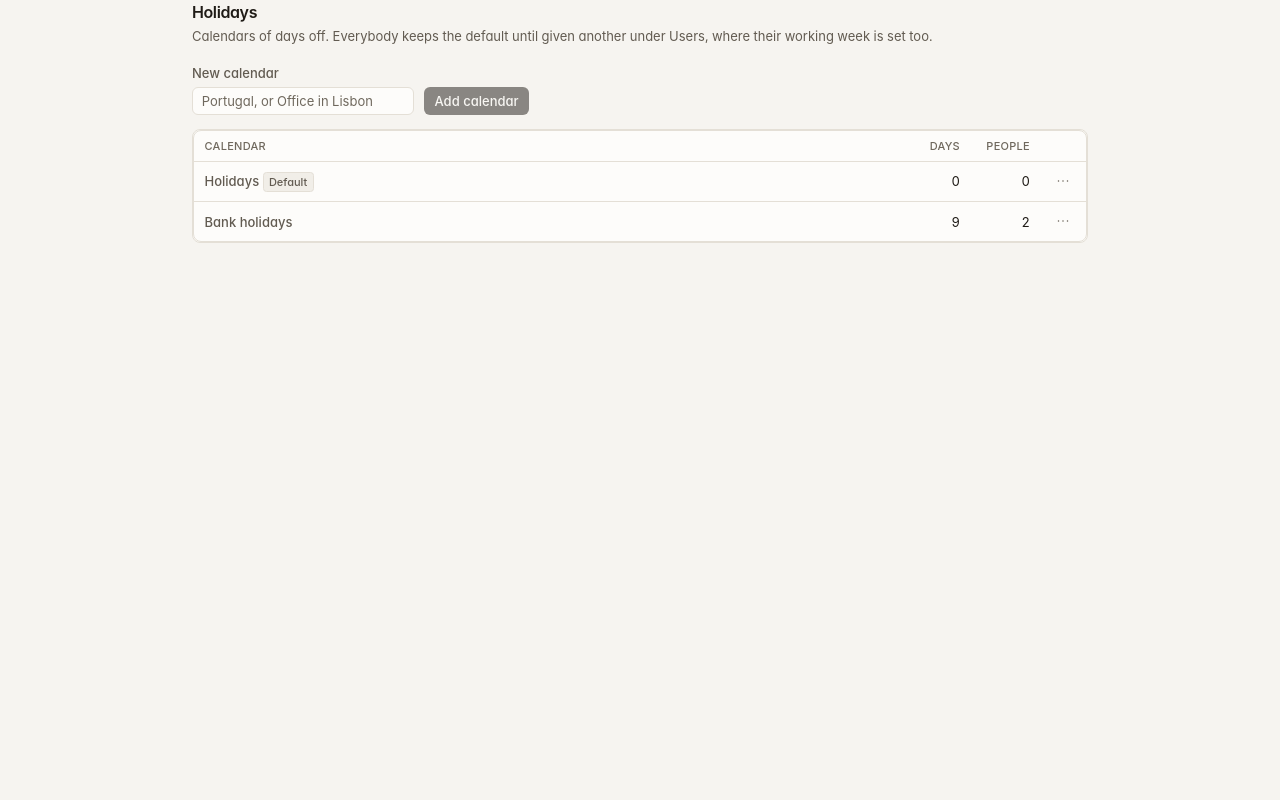
Test: deleting a holiday calendar › names the desks that take their days off from it
The width and height of the screenshot is (1280, 800).
Click the button named "Actions for Bank holidays".
click(1063, 221)  # box [1051, 209, 1076, 234]
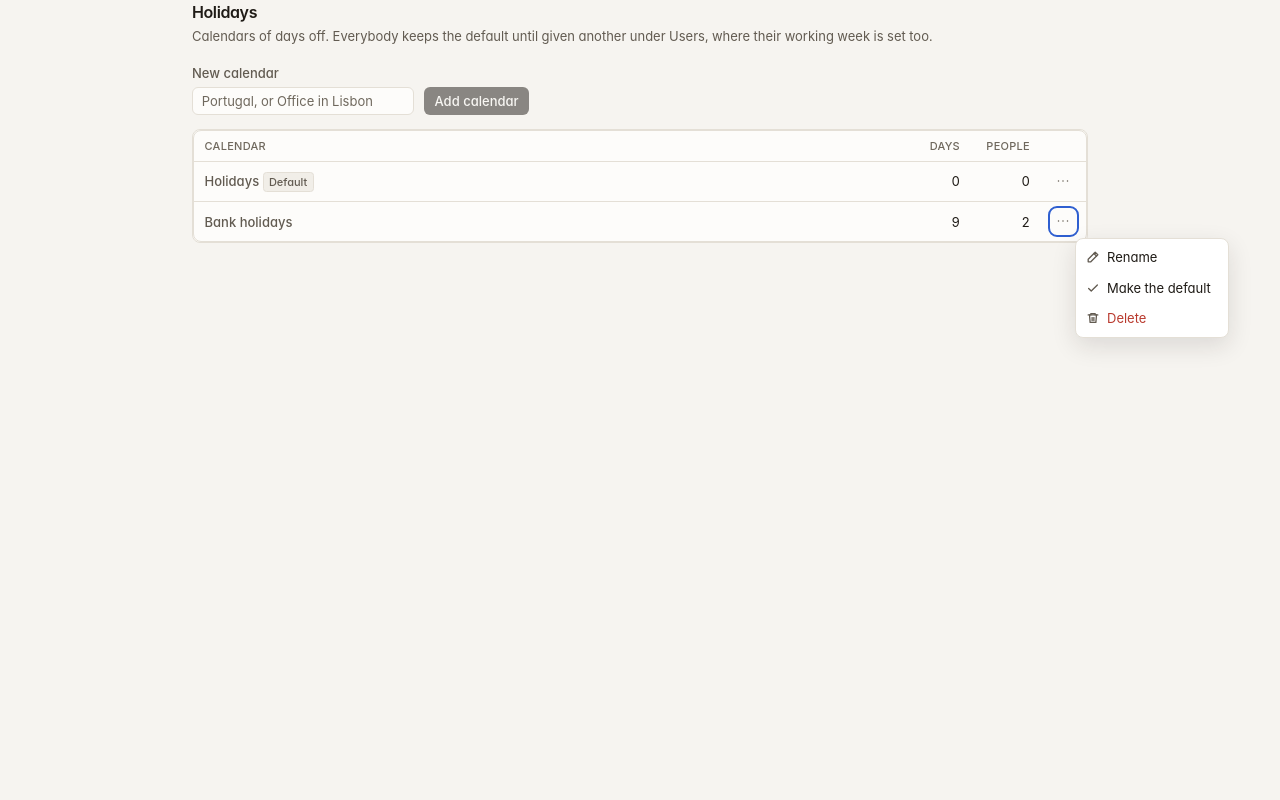
Click the menu item "Delete".
click(1152, 318)  # box [1079, 303, 1224, 334]
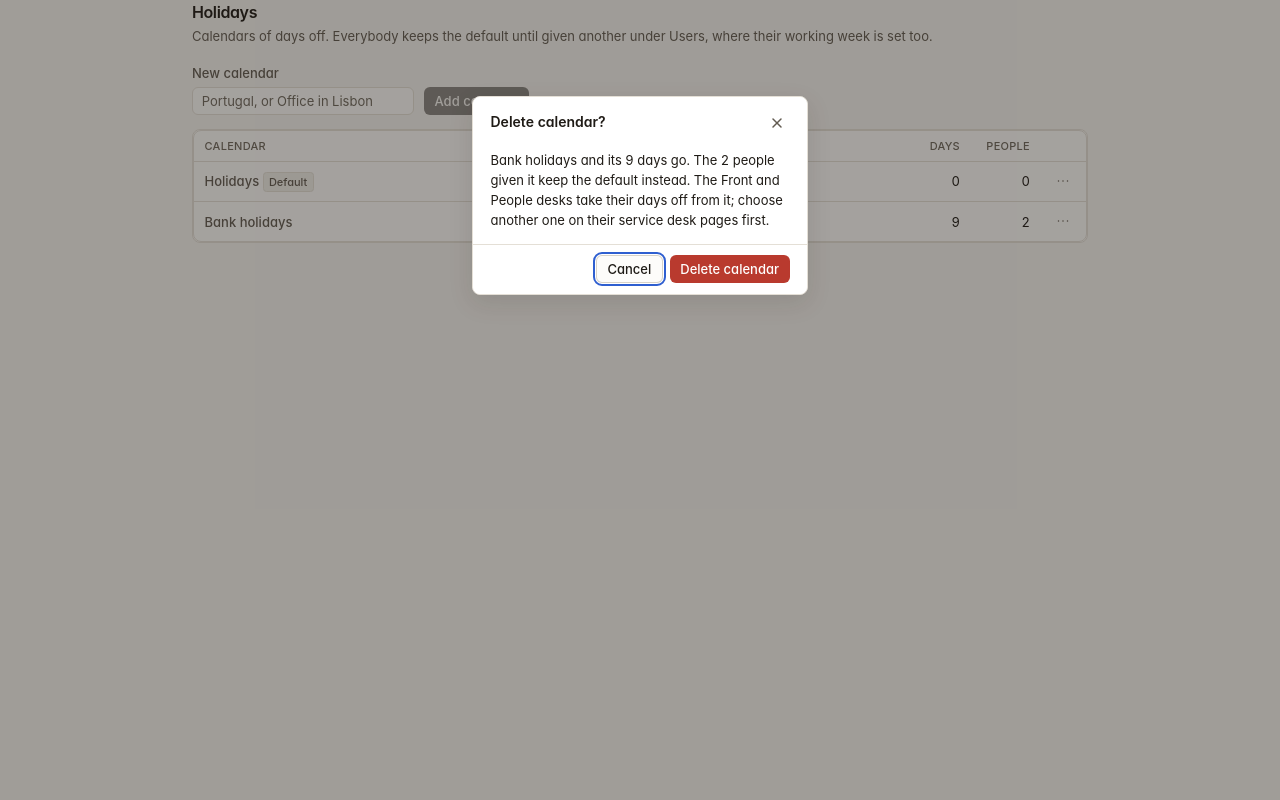
Now the dialog "Delete calendar?" shows "The Front and People desks take their days off from it", box [490, 152, 783, 228]
